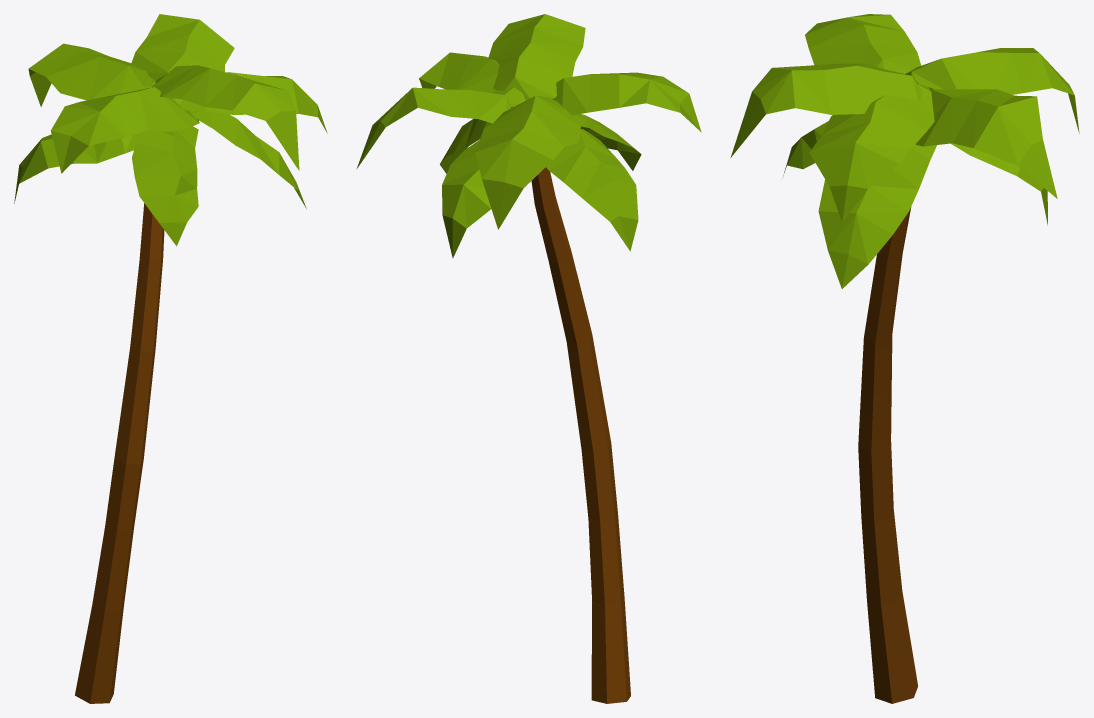
Rendered from TreePalm.fbx.
The picture shows the model from 3 angles, left to right: view 1: azimuth 30°, elevation 25°; view 2: azimuth 150°, elevation 25°; view 3: azimuth 270°, elevation 25°; orthographic projection. The views are drawn at different scales.
Visible parts, largest first — view 1: Leaves, Trunk; view 2: Leaves, Trunk; view 3: Leaves, Trunk.
Boxes of the visible parts, bbox=[...] form: Leaves: bbox=[14, 14, 327, 246]; Trunk: bbox=[75, 203, 164, 703]; Leaves: bbox=[356, 14, 701, 258]; Trunk: bbox=[531, 167, 630, 703]; Leaves: bbox=[730, 14, 1079, 288]; Trunk: bbox=[858, 207, 917, 703].
Bounding box in the file's own units: 325 × 714 × 330.
